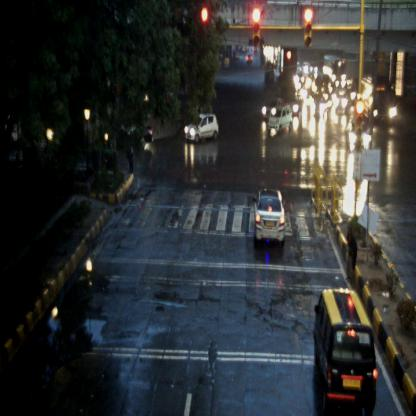bus: (361, 76, 393, 124), (322, 53, 344, 78)
car: (314, 287, 376, 415), (253, 188, 286, 248), (184, 113, 218, 143), (268, 104, 292, 134), (264, 98, 286, 122)
